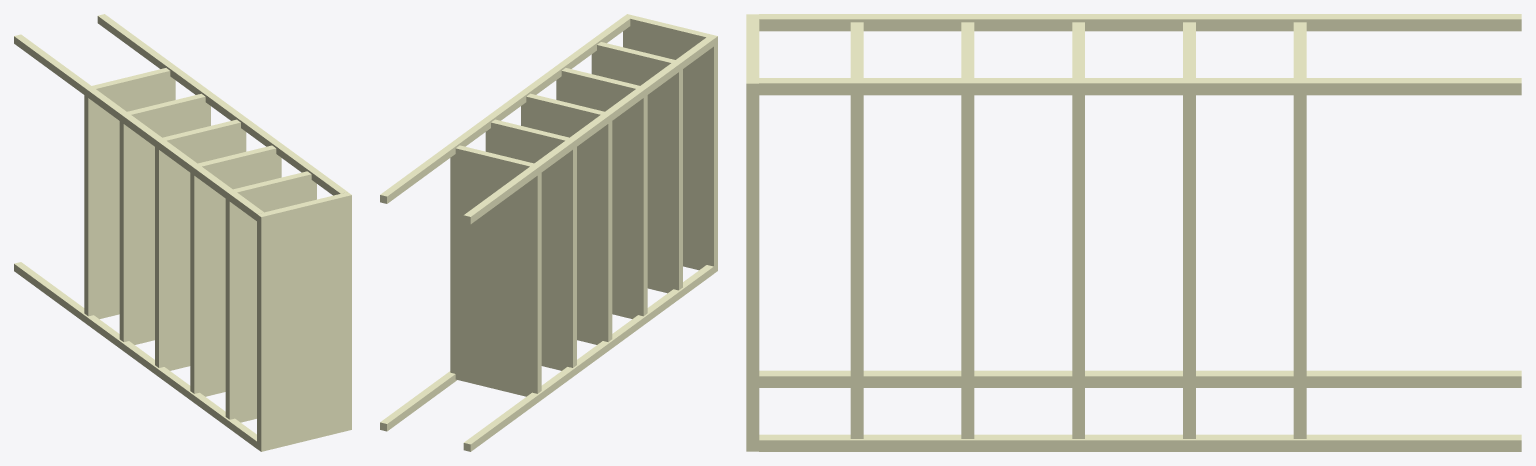
File: nil_link_mesh.dae
3 renders of one model, left to right at view 1: azimuth 30°, elevation 25°; view 2: azimuth 150°, elevation 25°; view 3: azimuth 270°, elevation 25°, orthographic. The views are drawn at different scales.
Parts seen in each view (by area): view 1: nil_link (×9); view 2: nil_link (×10); view 3: nil_link (×10).
Part boxes in pixels (x1,y1,x2,y2): nil_link (×9): (14,14,351,451); nil_link (×10): (380,14,717,451); nil_link (×10): (746,14,1521,451).
Size of the model in its own units: 0.445 by 1.1 by 2.1.
